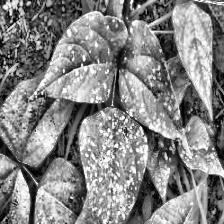Bean Rust: (25, 10, 130, 103), (121, 18, 183, 152), (77, 108, 142, 224), (178, 117, 224, 187), (134, 183, 206, 224), (148, 152, 172, 202)
